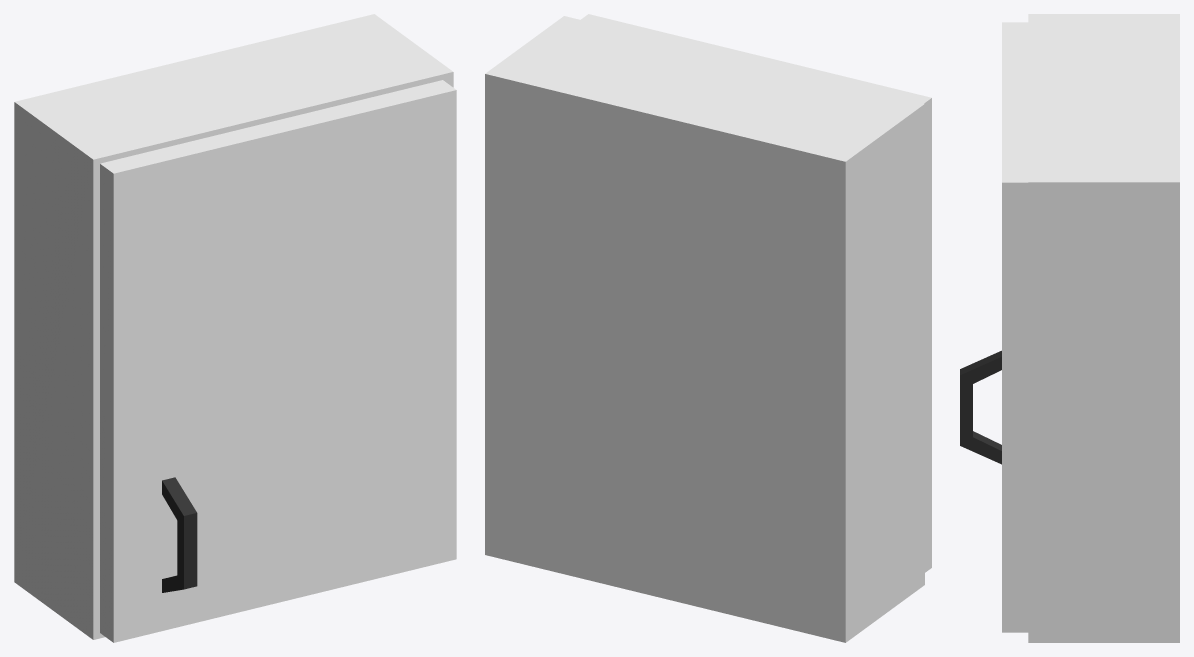
The model's file is Cupboard_2_2.fbx.
3 renders of one model, left to right at view 1: azimuth 30°, elevation 25°; view 2: azimuth 150°, elevation 25°; view 3: azimuth 270°, elevation 25°, orthographic. The views are drawn at different scales.
Parts seen in each view (by area): view 1: polySurface1495; view 2: polySurface1495; view 3: polySurface1495.
Boxes of the visible parts, bbox=[...] form: polySurface1495: bbox=[14, 14, 456, 642]; polySurface1495: bbox=[485, 14, 931, 642]; polySurface1495: bbox=[960, 14, 1179, 642].
Bounding box in the file's own units: 0.9168 × 1.17 × 0.5055.
1 material, 1 textured.
